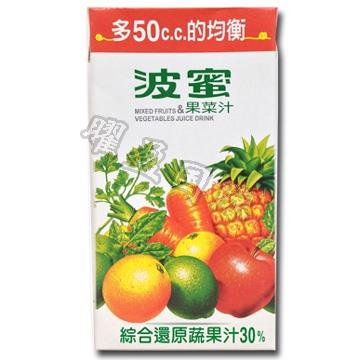vegetables juice: (76, 1, 284, 357)
